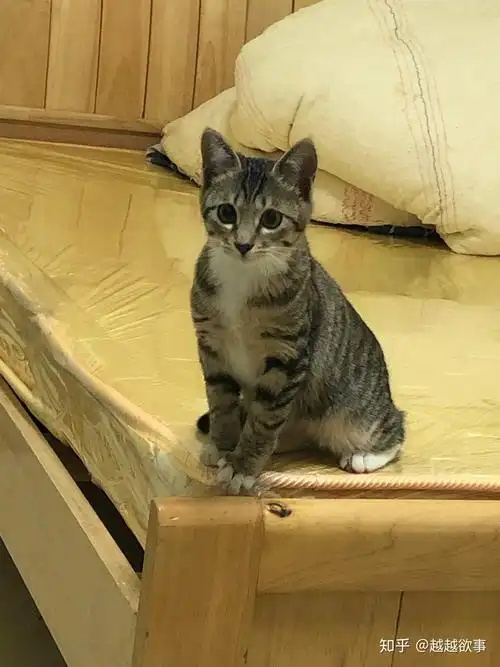狸花猫: (191, 130, 403, 493)
